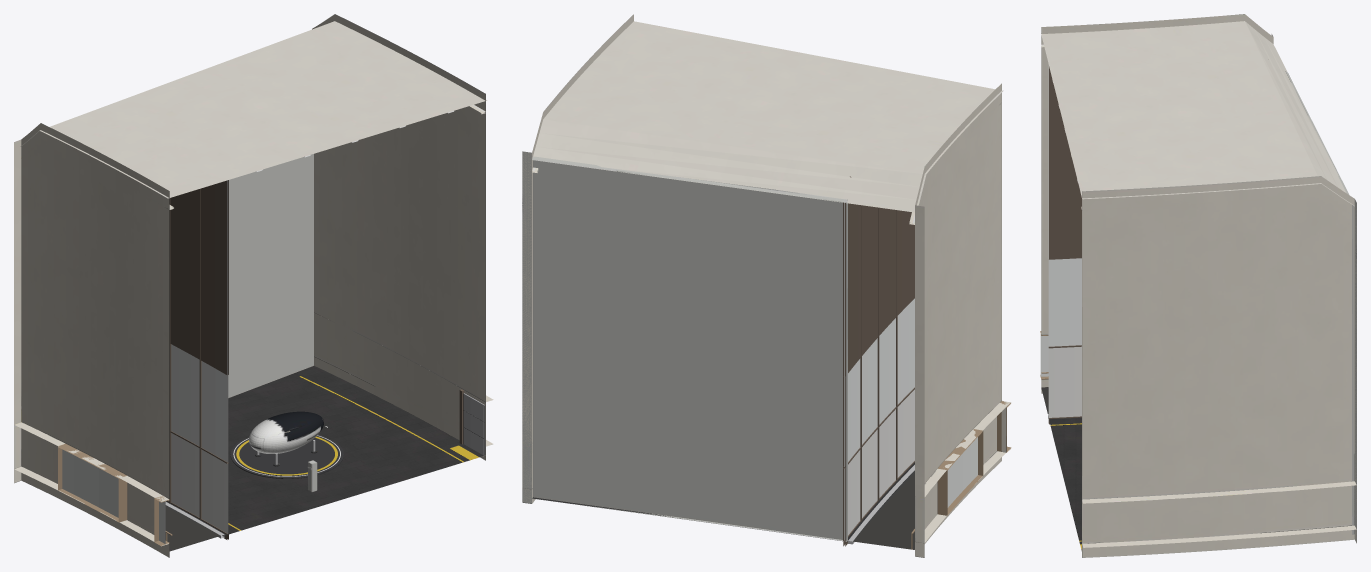
The picture shows the model from 3 angles, left to right: view 1: azimuth 30°, elevation 25°; view 2: azimuth 150°, elevation 25°; view 3: azimuth 270°, elevation 25°; orthographic projection. The views are drawn at different scales.
Parts seen in each view (by area): view 1: c0780; view 2: c0780; view 3: c0780.
Boxes of the visible parts, bbox=[...] form: c0780: bbox=[14, 14, 493, 557]; c0780: bbox=[522, 14, 1011, 557]; c0780: bbox=[1040, 14, 1356, 557].
Size of the model in its own units: 22.76 by 20.7 by 16.2.
14 materials, 2 textured.
